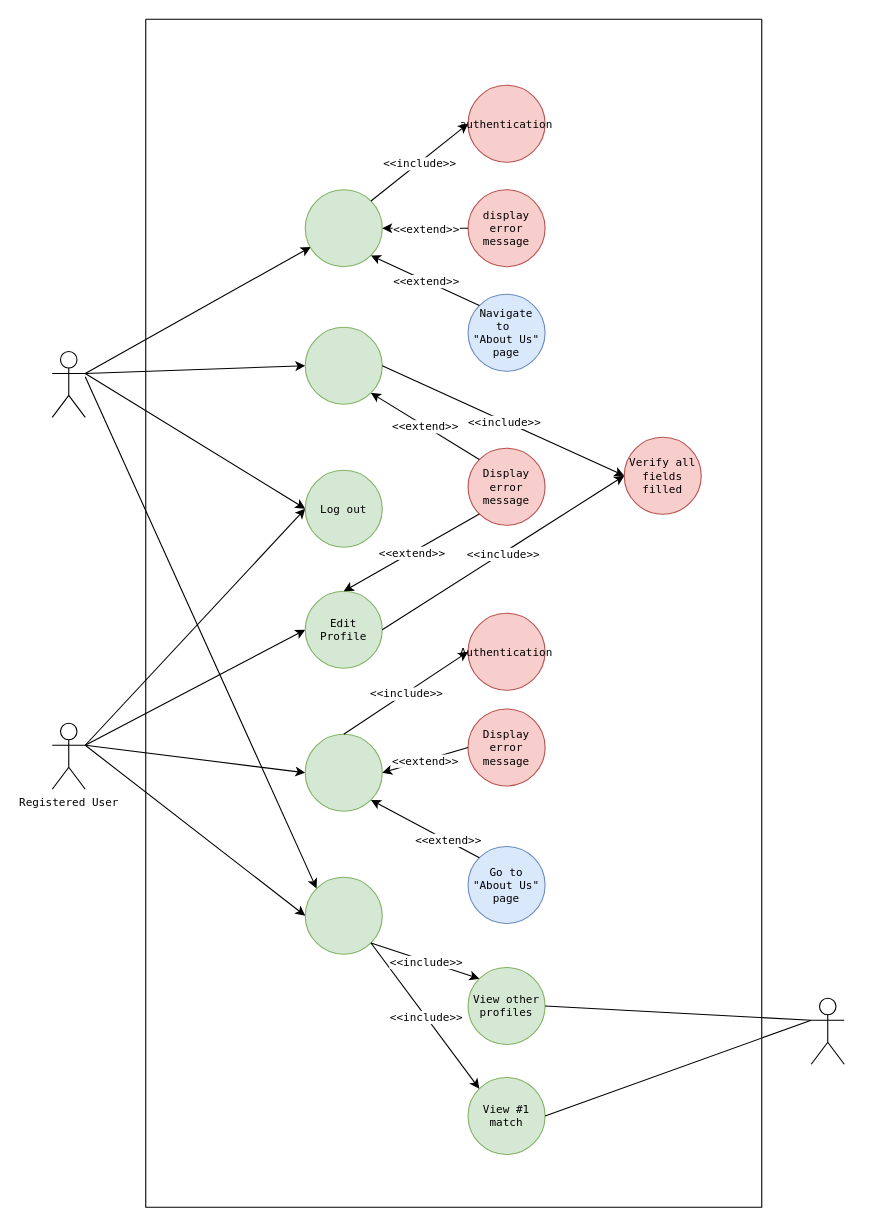
The diagram is 869 pixels wide and 1227 high, and some of its shapes have lost their labels. The shapes that lost their labels are listed below. From the top down, each one's centre as x and y in pixels, then its label:
At point 343,228: "registration ----------------learn more".
At point 68,383: "New User".
At point 343,365: "create profile".
At point 343,772: "Log in ---------------- Learn More".
At point 343,915: "Browse".
At point 827,1030: "Nereus".
